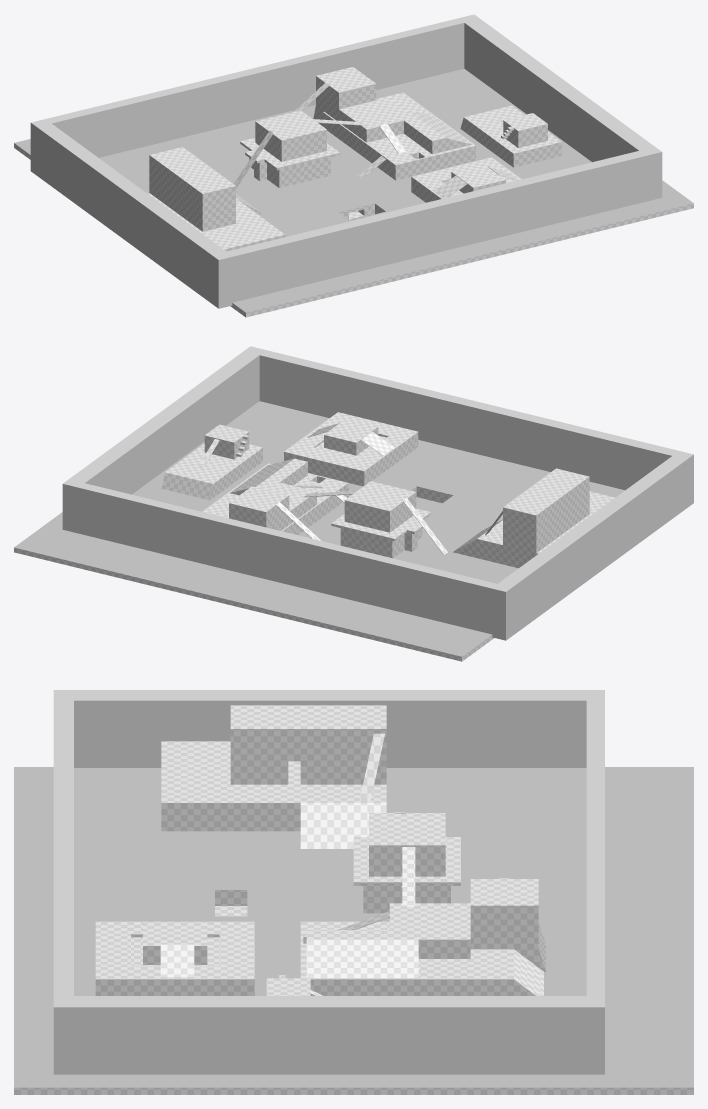
The model's file is Sol.fbx.
3 views of the same model, one above another, from view 1: azimuth 30°, elevation 25°; view 2: azimuth 150°, elevation 25°; view 3: azimuth 270°, elevation 25° (orthographic). The views are drawn at different scales.
Visible parts, largest first — view 1: Cube.005, Cube.008; view 2: Cube.005, Cube.008; view 3: Cube.008, Cube.005.
Part boxes in pixels (x1,y1,x2,y2): Cube.005: (30, 14, 662, 308); Cube.008: (14, 67, 693, 317); Cube.005: (62, 346, 693, 640); Cube.008: (14, 401, 624, 661); Cube.008: (14, 705, 693, 1094); Cube.005: (53, 690, 604, 1074).
Size of the model in its own units: 20.34 by 2.86 by 17.7.
3 materials, 2 textured.
